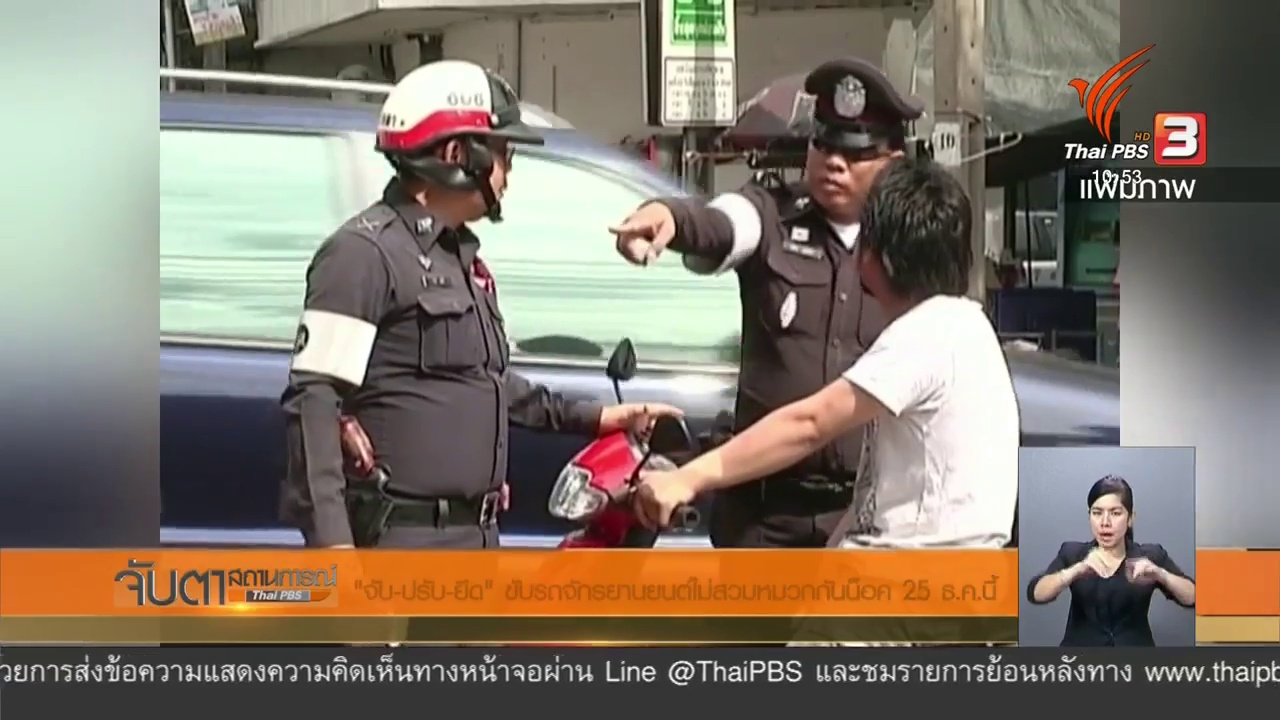helmet: (380, 47, 532, 217)
